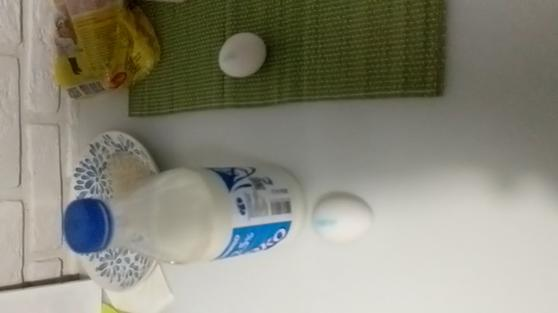egg: (307, 190, 378, 247), (212, 30, 277, 80)
milk: (53, 154, 310, 272)
